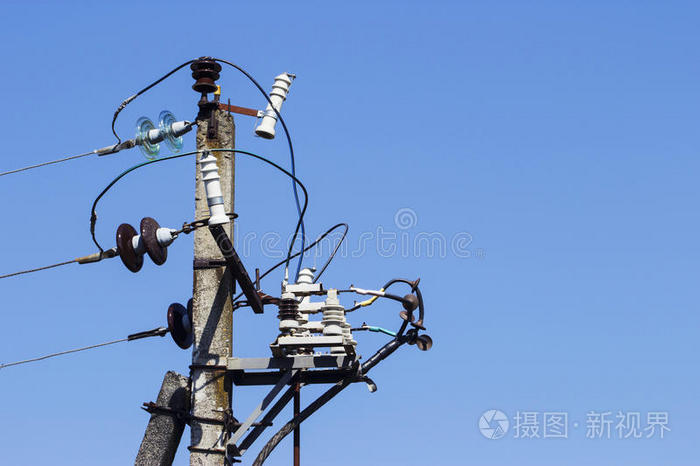insulator: (116, 214, 171, 272), (137, 109, 183, 163), (165, 299, 198, 347), (190, 58, 221, 95)
